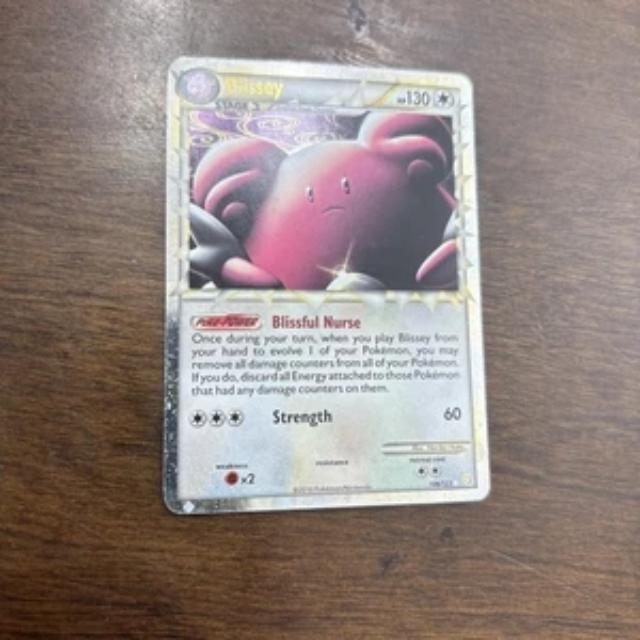Card: (160, 50, 496, 519)
Name: (219, 73, 291, 104)
